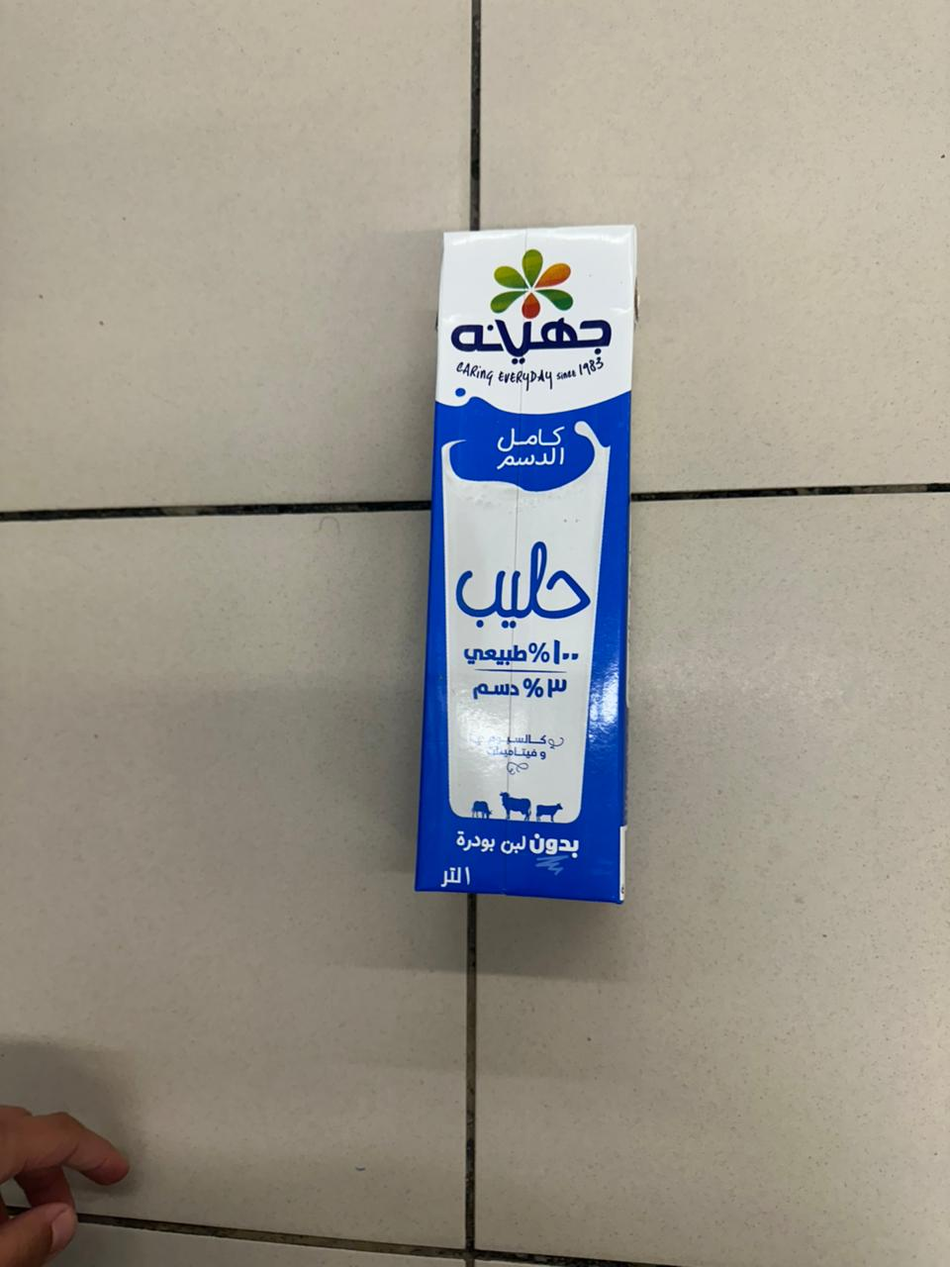milk: (417, 226, 634, 901)
